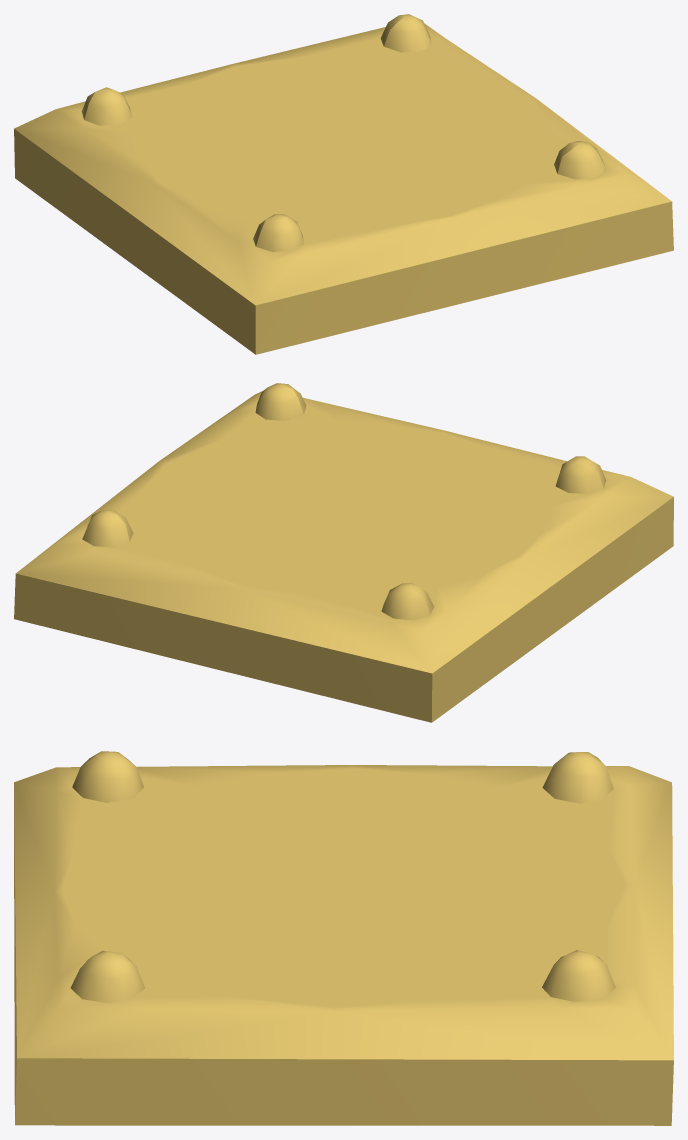
File: SM_Ancient_Urn_Stand.fbx
The picture shows the model from 3 angles, top to bottom: view 1: azimuth 30°, elevation 25°; view 2: azimuth 150°, elevation 25°; view 3: azimuth 270°, elevation 25°; orthographic projection. The views are drawn at different scales.
Parts seen in each view (by area): view 1: SM_Ancient_Urn_Stand; view 2: SM_Ancient_Urn_Stand; view 3: SM_Ancient_Urn_Stand.
Boxes of the visible parts, x1=… form: SM_Ancient_Urn_Stand: x1=14, y1=14, x2=673, y2=354; SM_Ancient_Urn_Stand: x1=14, y1=383, x2=673, y2=722; SM_Ancient_Urn_Stand: x1=14, y1=751, x2=673, y2=1125.
Bounding box in the file's own units: 0.299 × 0.0679 × 0.2996.
